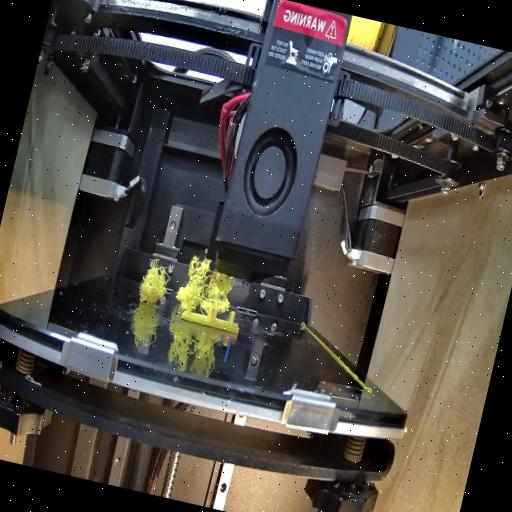spaghetti: (174, 252, 236, 318), (131, 254, 174, 316)
